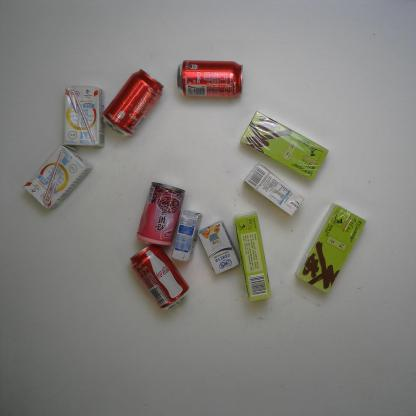Canned Food: (136, 181, 186, 246)
Drink: (102, 68, 164, 140), (129, 242, 190, 312), (176, 59, 243, 99)
Instant Drink: (292, 204, 369, 295), (241, 110, 328, 181), (234, 211, 274, 303)
Milk: (22, 144, 94, 210), (242, 163, 305, 215), (61, 85, 107, 150), (197, 220, 241, 276), (172, 209, 203, 263)
